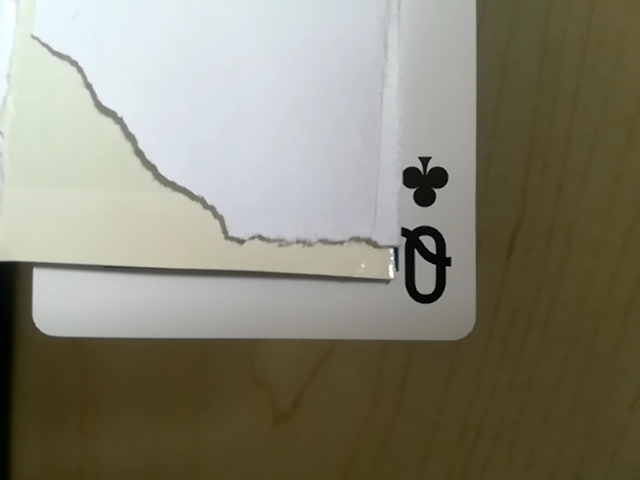mh q: (360, 138, 476, 329)
